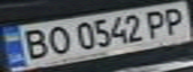0: (72, 19, 96, 51)
2: (121, 11, 148, 43)
4: (109, 12, 130, 46)
5: (90, 16, 112, 48)
B: (15, 26, 54, 61)
O: (42, 24, 72, 56)
P: (157, 4, 193, 37), (142, 7, 172, 39)
